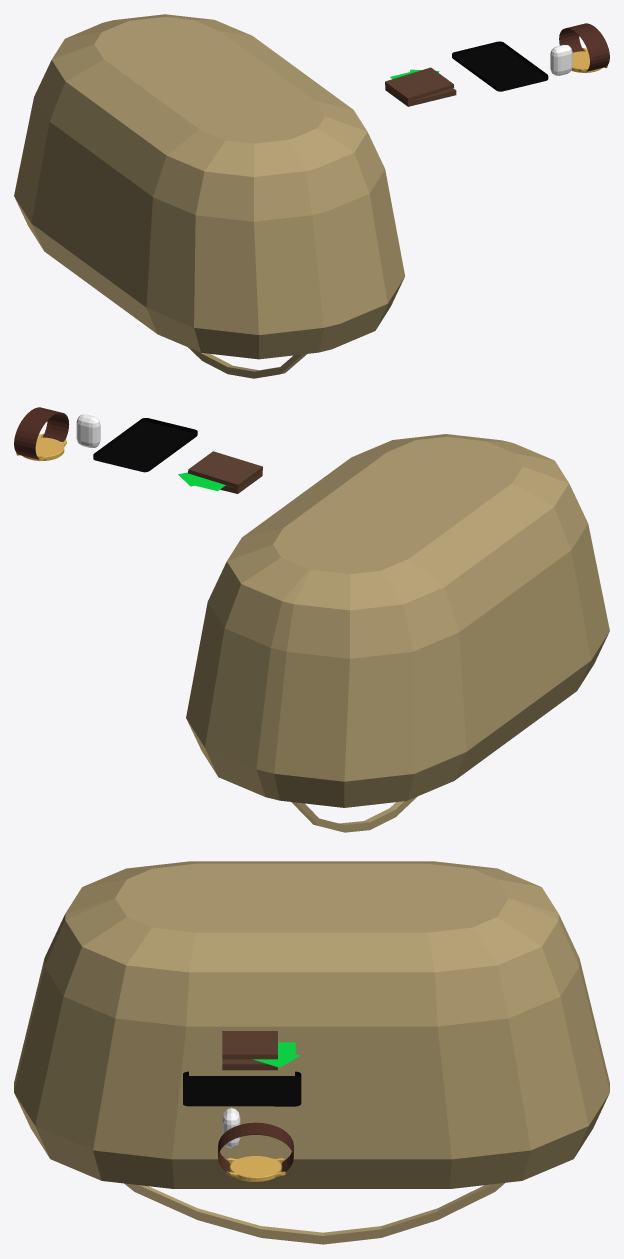
Rendered from SAKER.fbx.
3 renders of one model, top to bottom at view 1: azimuth 30°, elevation 25°; view 2: azimuth 150°, elevation 25°; view 3: azimuth 270°, elevation 25°, orthographic. The views are drawn at different scales.
Visible parts, largest first — view 1: Cube.003, Cube, Cube.001, Cylinder, Cube.002; view 2: Cube.003, Cube, Cube.001, Cylinder, Cube.002, Circle; view 3: Cube.003, Cube, Cube.001, Cylinder, Circle.
Boxes of the visible parts, left/top/right/bottom form: Cube.003: left=14, top=14, right=404, bottom=378; Cube: left=452, top=41, right=548, bottom=91; Cube.001: left=385, top=67, right=456, bottom=106; Cylinder: left=559, top=23, right=609, bottom=71; Cube.002: left=550, top=45, right=572, bottom=75; Cube.003: left=186, top=434, right=609, bottom=832; Cube: left=93, top=418, right=197, bottom=472; Cube.001: left=178, top=451, right=262, bottom=493; Cylinder: left=14, top=407, right=69, bottom=459; Cube.002: left=76, top=414, right=100, bottom=447; Circle: left=16, top=433, right=66, bottom=461; Cube.003: left=14, top=861, right=609, bottom=1244; Cube: left=183, top=1071, right=301, bottom=1106; Cube.001: left=222, top=1031, right=299, bottom=1070; Cylinder: left=218, top=1122, right=293, bottom=1171; Circle: left=226, top=1156, right=285, bottom=1181.
Bounding box in the file's own units: 14054 × 7754 × 12148.
